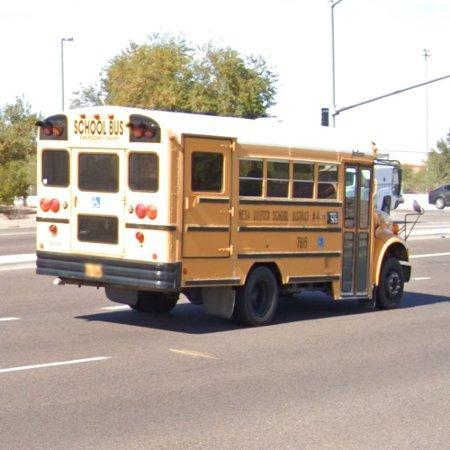buses: (37, 106, 412, 325)
